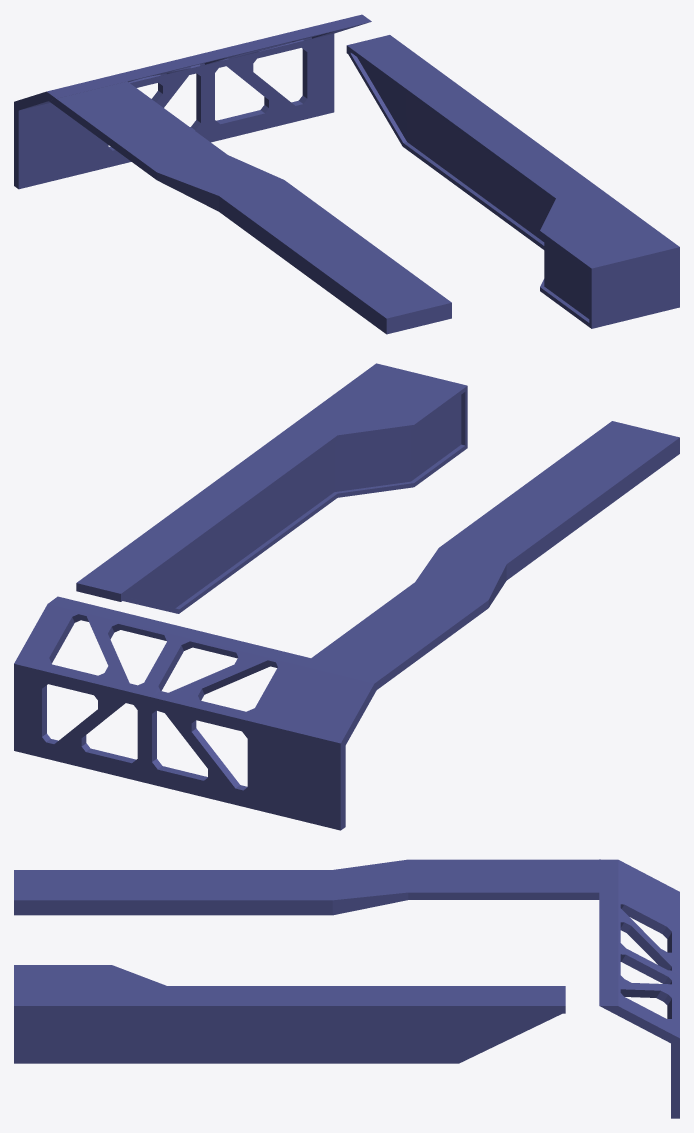
Rendered from SM_GameArea_Wall_03.fbx.
3 renders of one model, top to bottom at view 1: azimuth 30°, elevation 25°; view 2: azimuth 150°, elevation 25°; view 3: azimuth 270°, elevation 25°, orthographic. The views are drawn at different scales.
Parts seen in each view (by area): view 1: SM_GameArea_Wall_03; view 2: SM_GameArea_Wall_03; view 3: SM_GameArea_Wall_03.
Part boxes in pixels (x1,y1,x2,y2): SM_GameArea_Wall_03: [14, 14, 679, 334]; SM_GameArea_Wall_03: [14, 363, 679, 830]; SM_GameArea_Wall_03: [14, 859, 679, 1118].
Bounding box in the file's own units: 94.19 × 33.71 × 181.
1 material, 1 textured.
